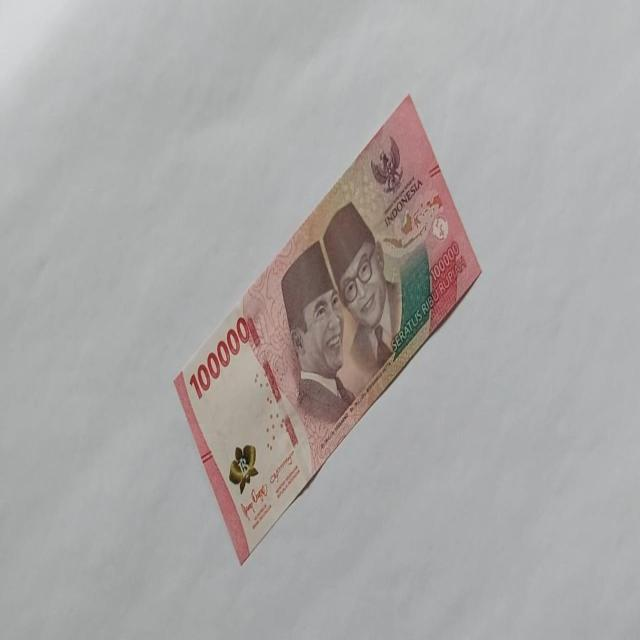Kertas: (173, 91, 483, 564), (188, 315, 250, 401)
